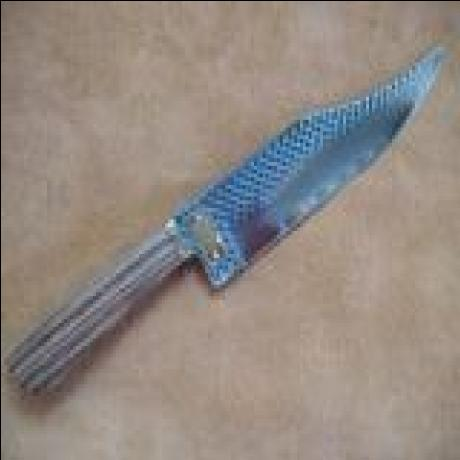weapon: (18, 41, 444, 395)
